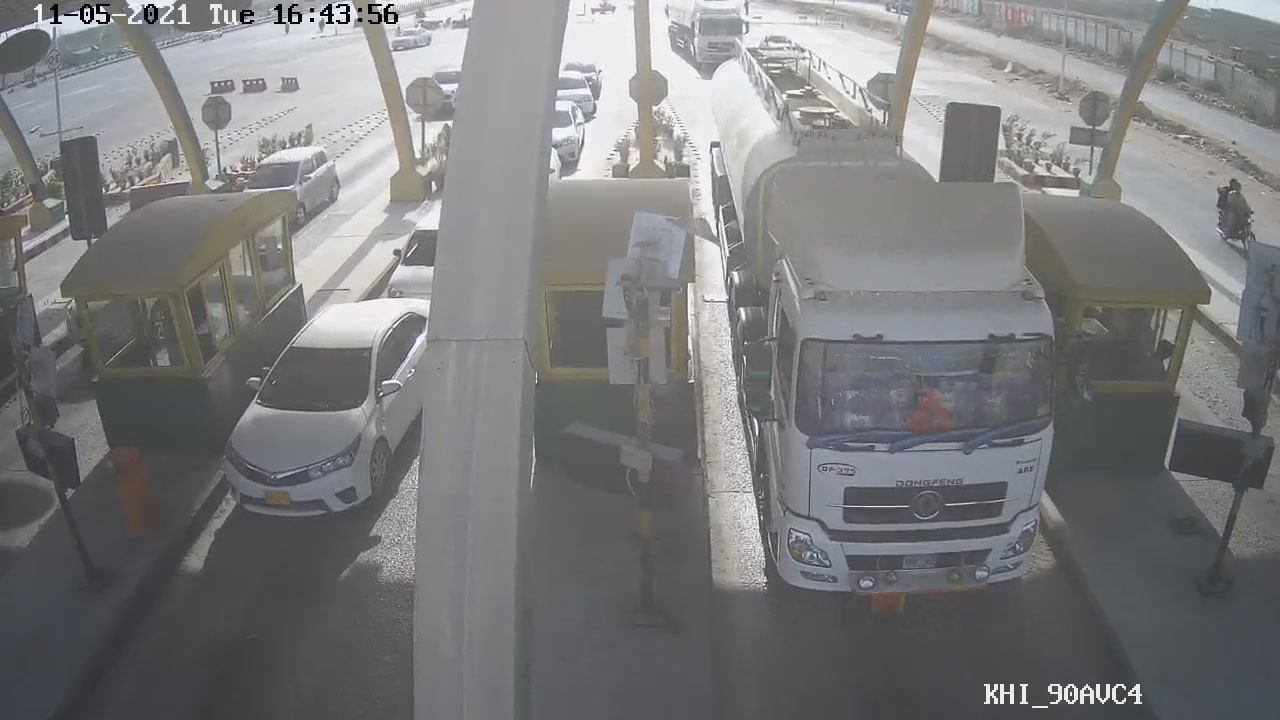F6: (692, 70, 1085, 621)
